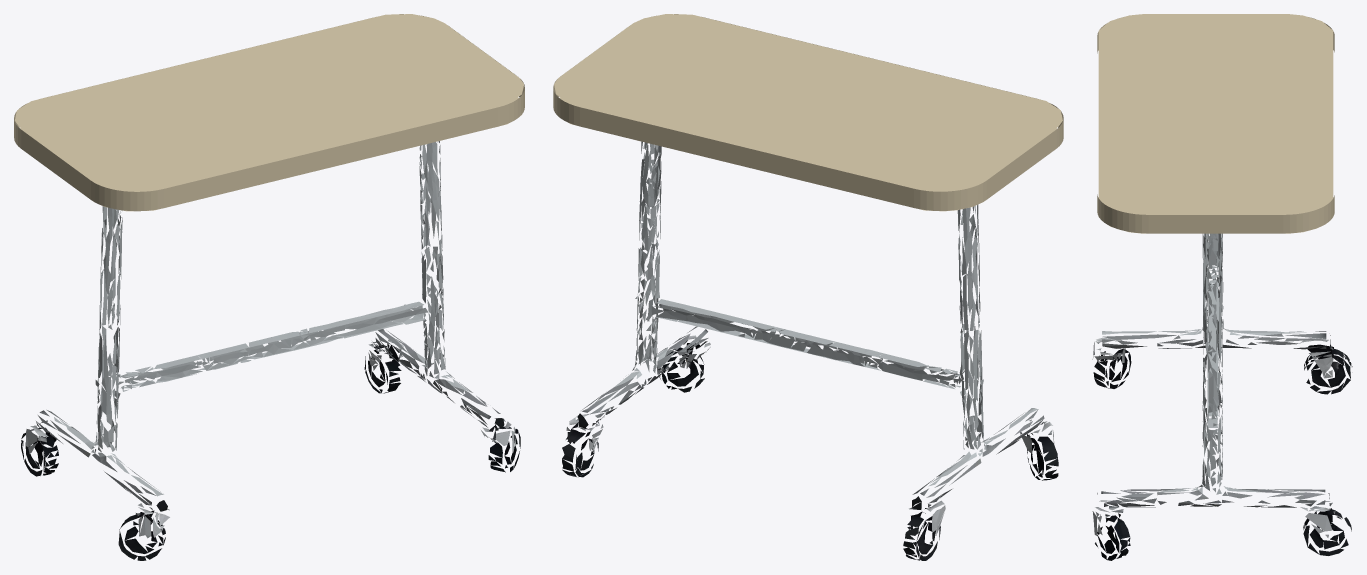
Rendered from lod2_source.glb.
The picture shows the model from 3 angles, left to right: view 1: azimuth 30°, elevation 25°; view 2: azimuth 150°, elevation 25°; view 3: azimuth 270°, elevation 25°; orthographic projection. The views are drawn at different scales.
Parts seen in each view (by area): view 1: Rounded flat tabletop, geometry_0; view 2: Rounded flat tabletop, geometry_0; view 3: Rounded flat tabletop, geometry_0.
Boxes of the visible parts, <box> form: Rounded flat tabletop: <box>14,14,524,211</box>; geometry_0: <box>21,141,520,560</box>; Rounded flat tabletop: <box>553,14,1063,211</box>; geometry_0: <box>562,141,1058,560</box>; Rounded flat tabletop: <box>1097,14,1334,233</box>; geometry_0: <box>1092,233,1352,560</box>.
Bounding box in the file's own units: 1.2 × 0.9998 × 0.657.
3 materials, 1 textured.
